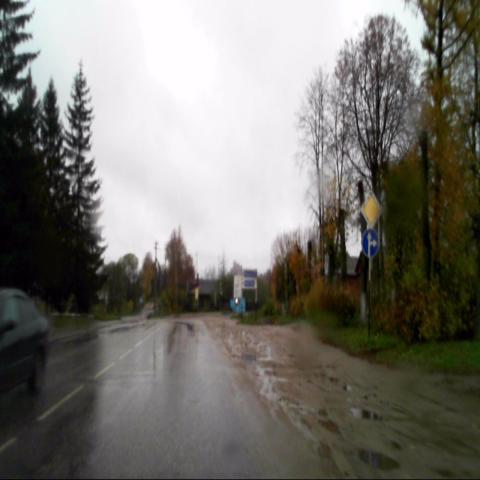2_1: (360, 190, 382, 229)
4_1_4: (362, 229, 378, 258)
